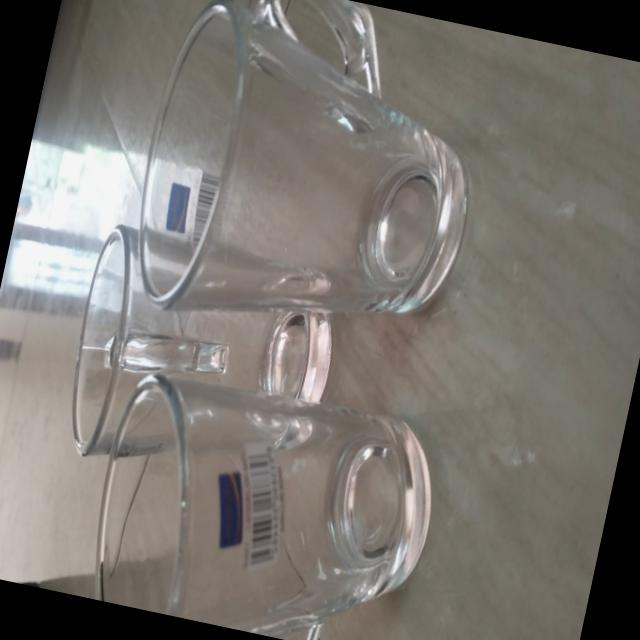glass-VX4N: (119, 0, 506, 367), (78, 365, 451, 640), (54, 218, 352, 502)
